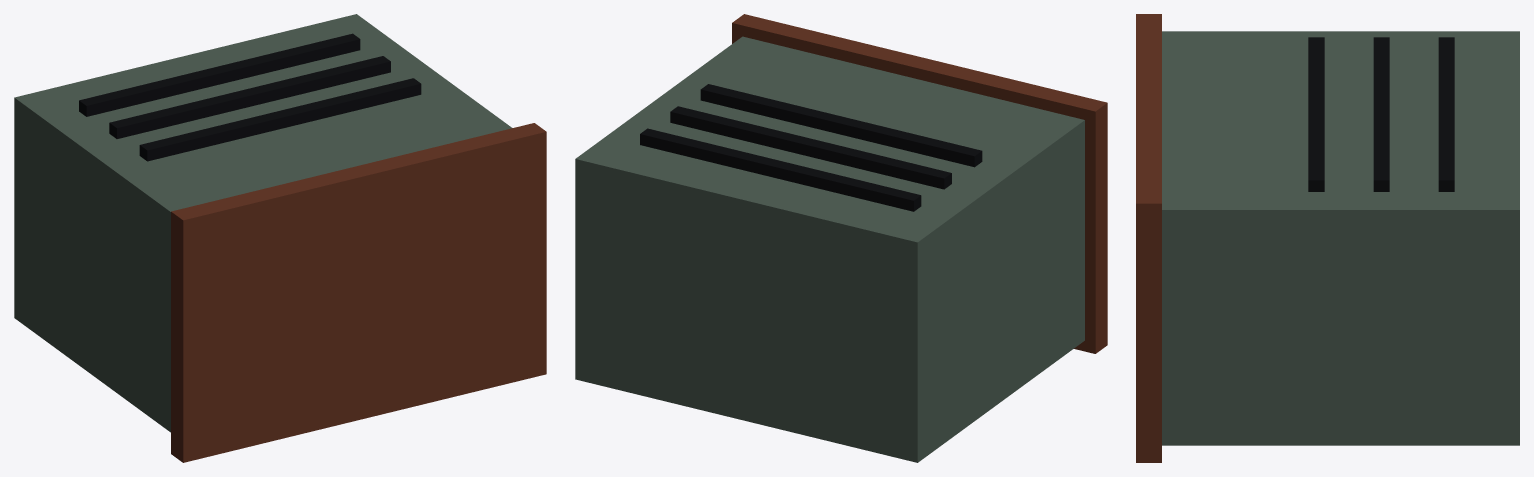
The model's file is ENV_prop_dumpster.obj.
The picture shows the model from 3 angles, left to right: view 1: azimuth 30°, elevation 25°; view 2: azimuth 150°, elevation 25°; view 3: azimuth 270°, elevation 25°; orthographic projection. The views are drawn at different scales.
Visible parts, largest first — view 1: ENV_prop_dumpster; view 2: ENV_prop_dumpster; view 3: ENV_prop_dumpster.
Part boxes in pixels (<box>): ENV_prop_dumpster: <box>14,14,546,462</box>; ENV_prop_dumpster: <box>575,14,1107,462</box>; ENV_prop_dumpster: <box>1136,14,1519,462</box>.
Size of the model in its own units: 1.38 by 0.88 by 1.18.
